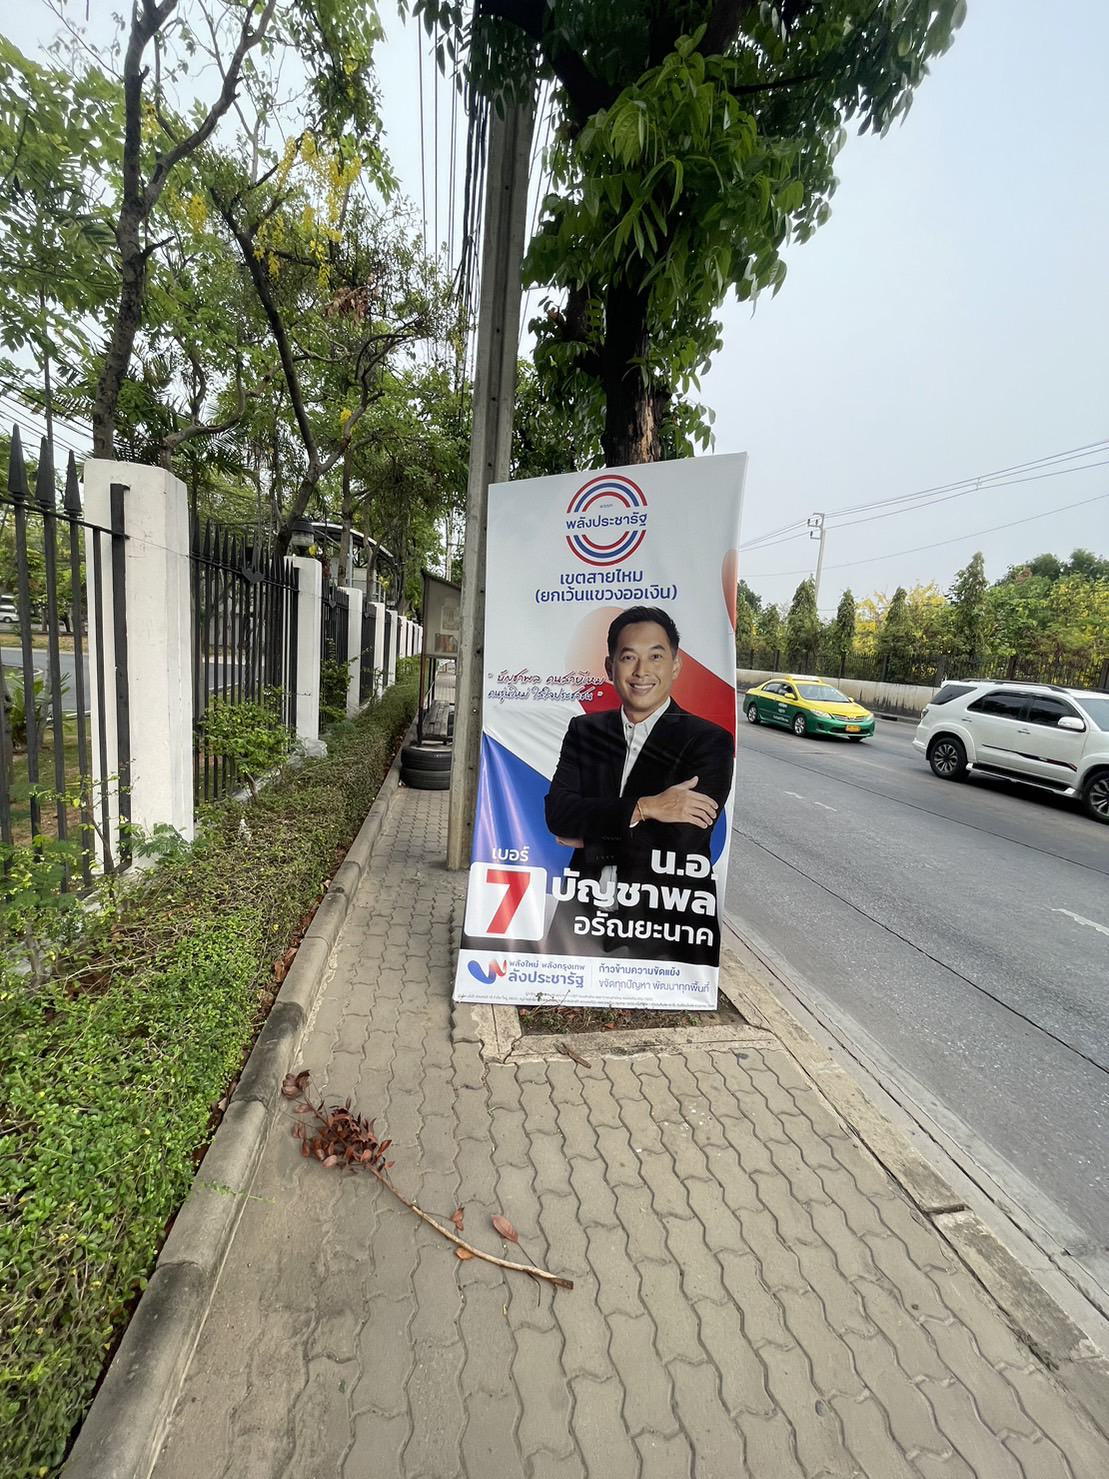Banner: (460, 481, 730, 1018)
